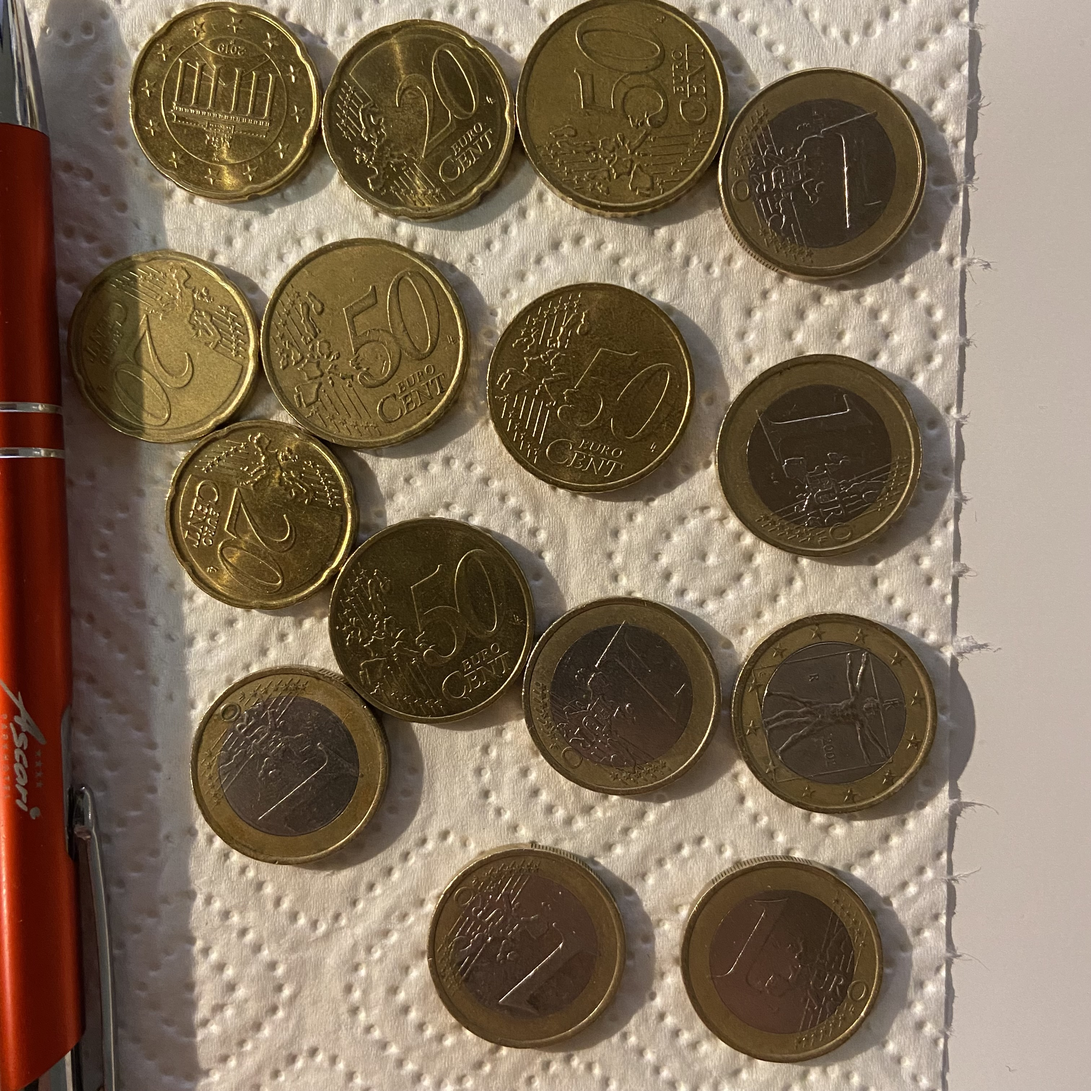1 euro: (718, 69, 926, 282), (717, 354, 922, 557), (681, 856, 882, 1062), (732, 614, 937, 814), (428, 844, 625, 1048), (523, 597, 721, 796), (192, 667, 388, 864)
10 cent: (130, 3, 321, 202)
2 euro: (732, 614, 937, 814)
20 cent: (323, 20, 515, 221), (68, 250, 258, 443), (166, 420, 358, 609)
50 cent: (517, 0, 728, 217), (260, 238, 469, 449), (487, 283, 694, 493), (329, 518, 534, 724)
